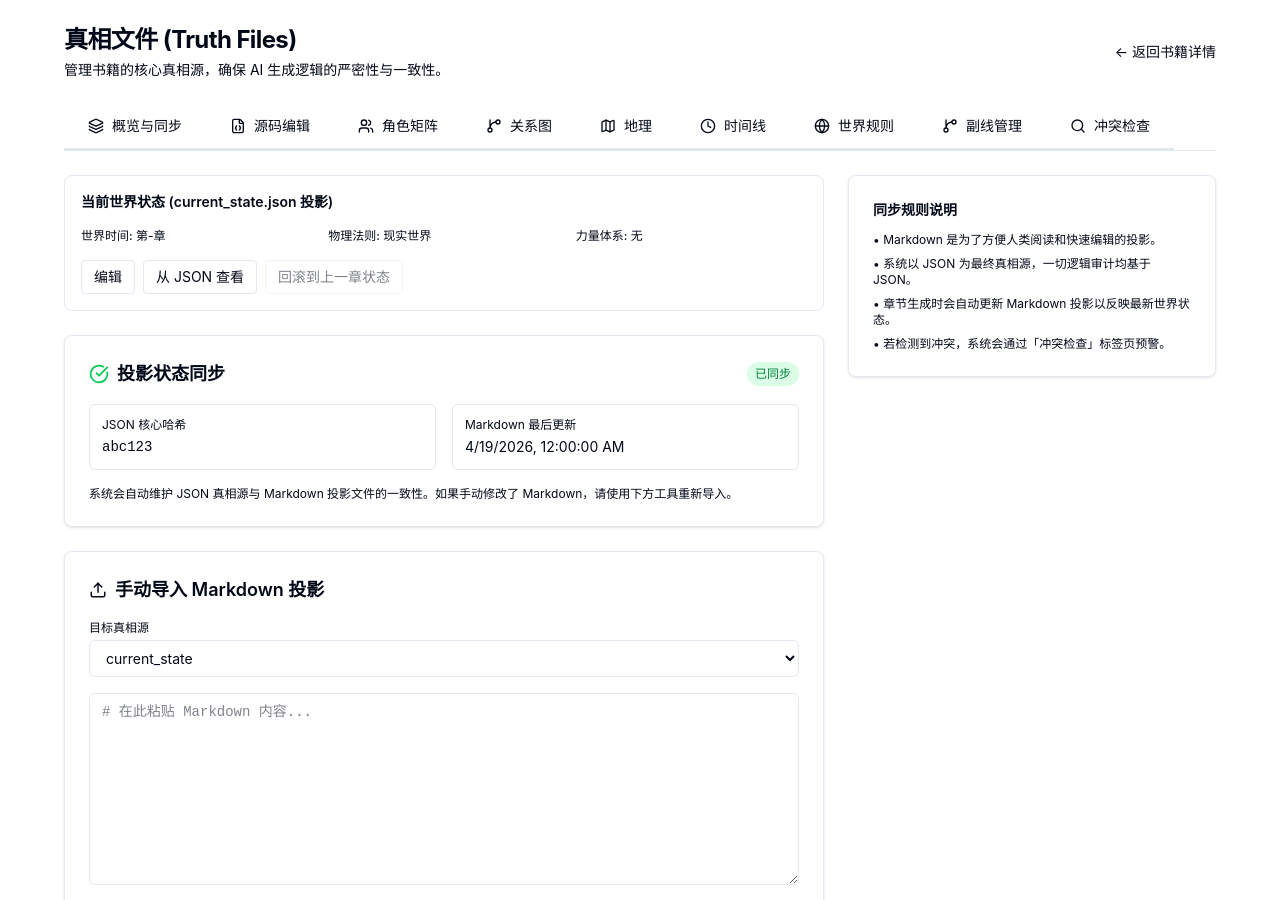
Scenario: TruthFiles Page › edits file content in edit mode
expect the heading "投影状态同步" is shown: met, box [117,360,225,388]
Click the button "源码编辑" at (270, 127), box [206,104,334,150]
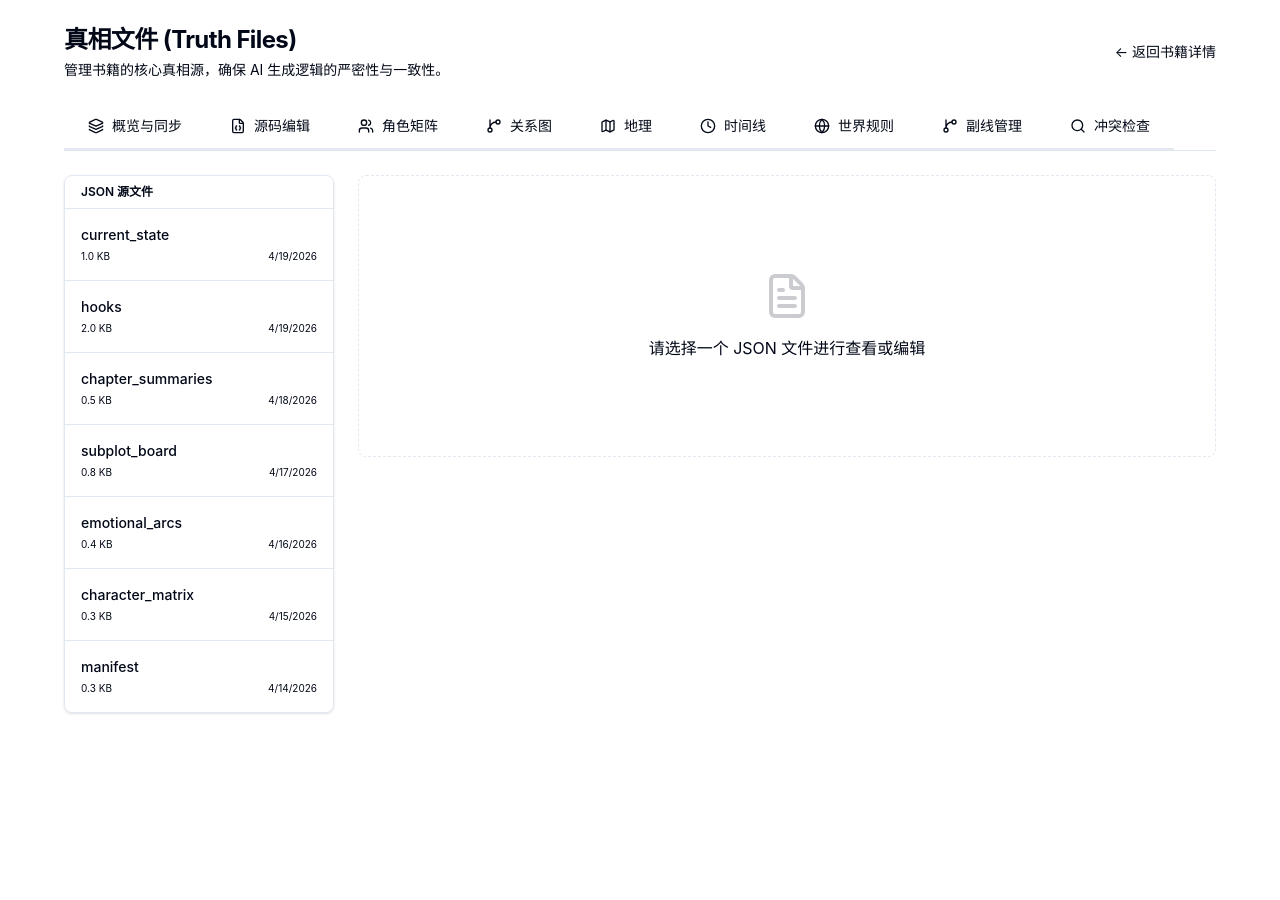
Click the button "current_state 1.0 KB 4/19/2026" at (125, 234), box [65,209,333,281]
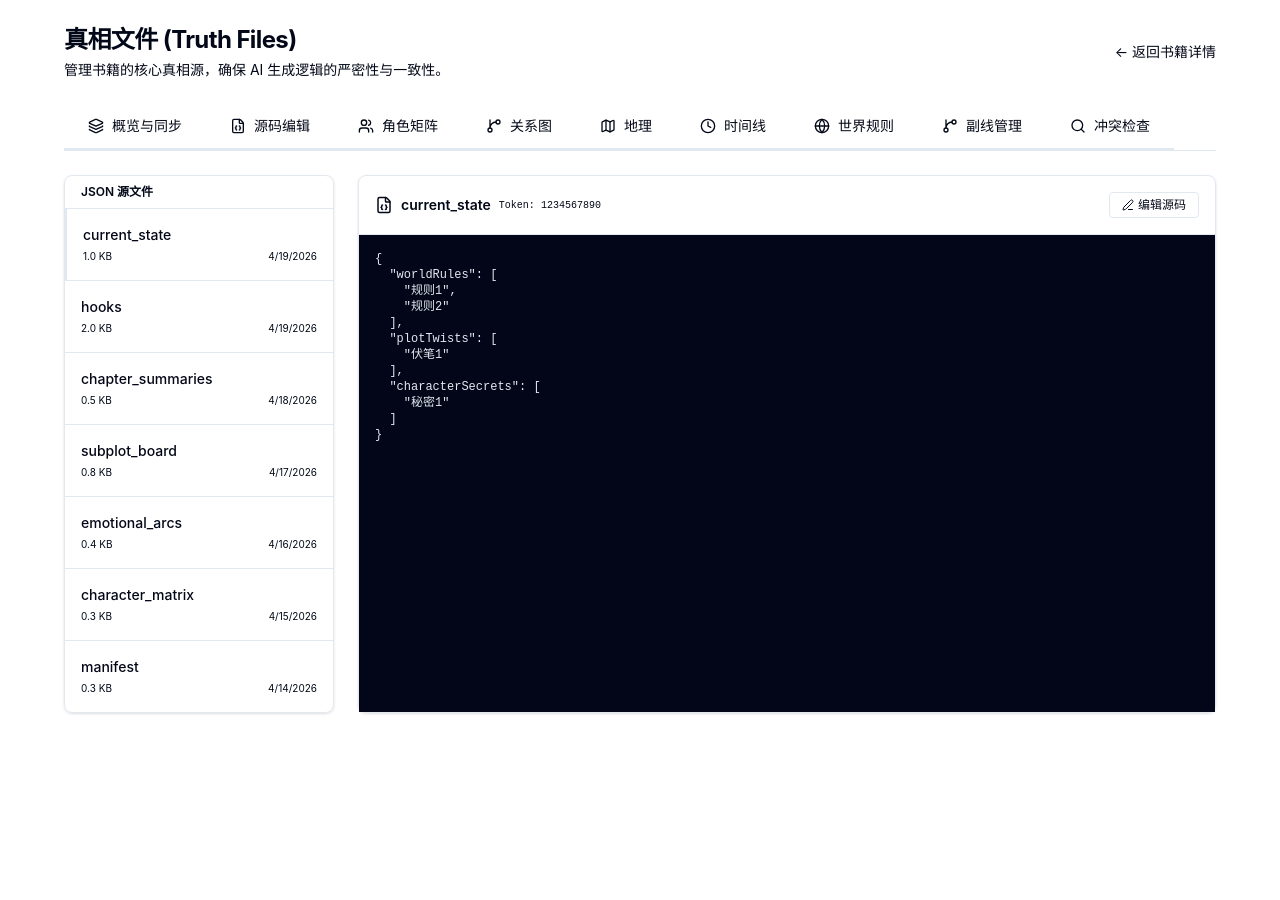
expect the text "worldRules" is shown: met, box [375,252,541,442]
# Click edit button
Click the button "编辑源码" at (1154, 205), box [1109,192,1199,218]
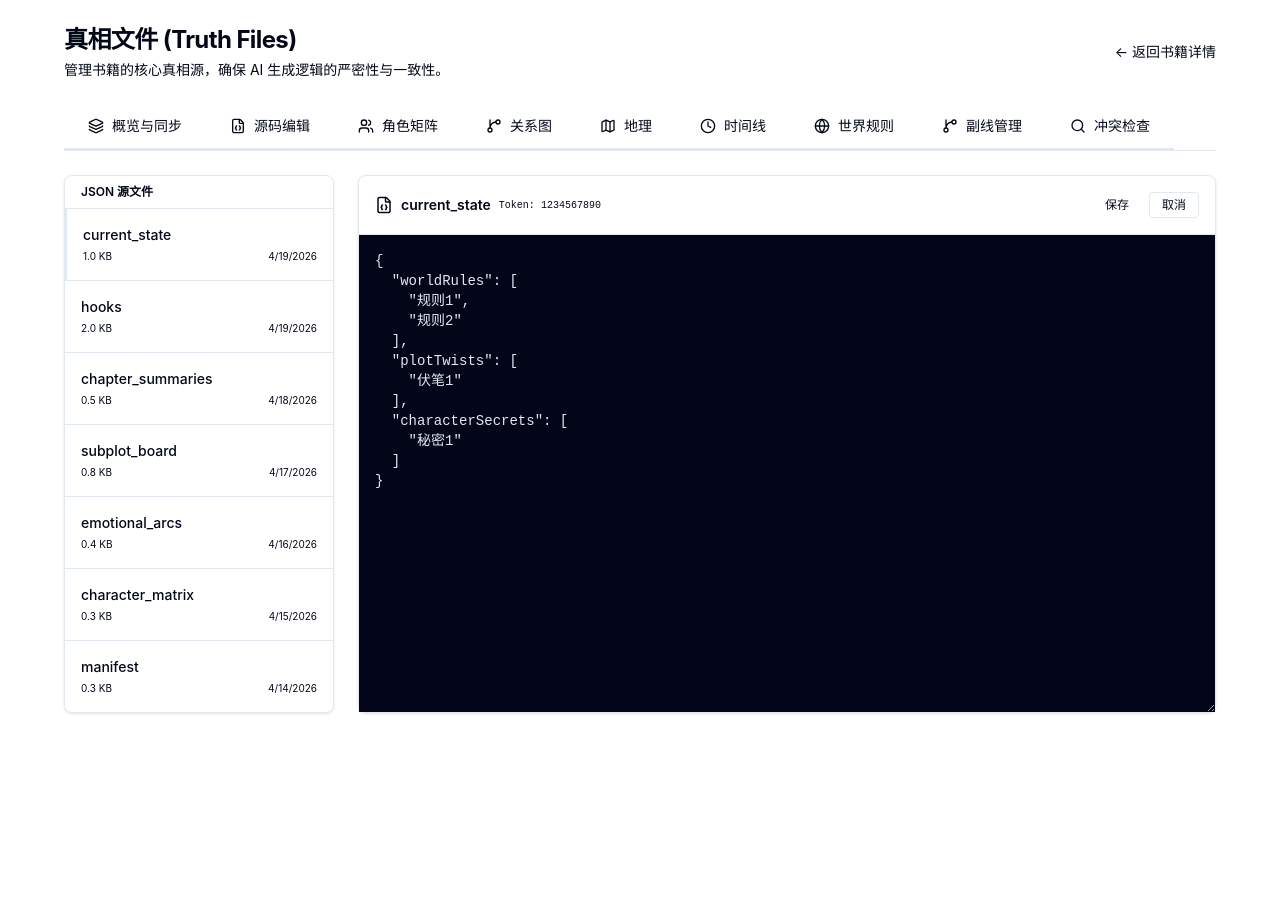
expect the text box is shown: met, box [359,235,1215,712]
